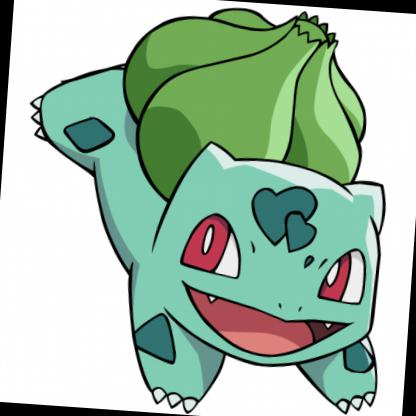Bulbasaur: (1, 1, 416, 416), (8, 1, 416, 416)
